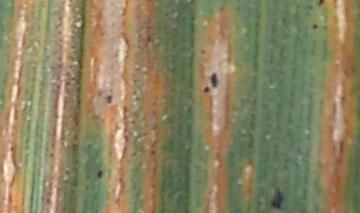tarspot: (269, 184, 288, 211), (208, 71, 221, 88), (95, 168, 107, 182), (104, 92, 114, 106), (201, 83, 211, 97), (315, 1, 327, 9), (310, 23, 320, 32), (148, 149, 157, 157)
